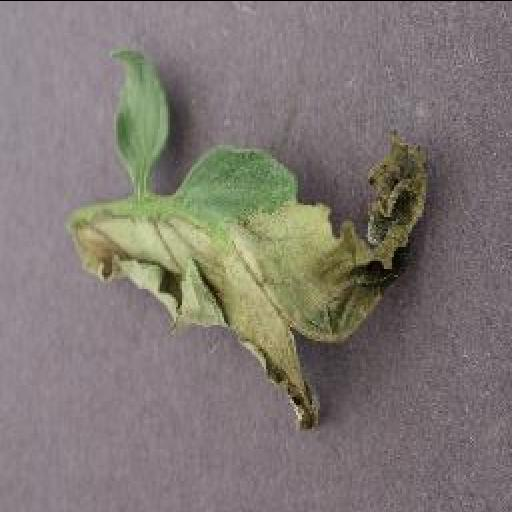disease_tomato: (76, 127, 434, 425)
